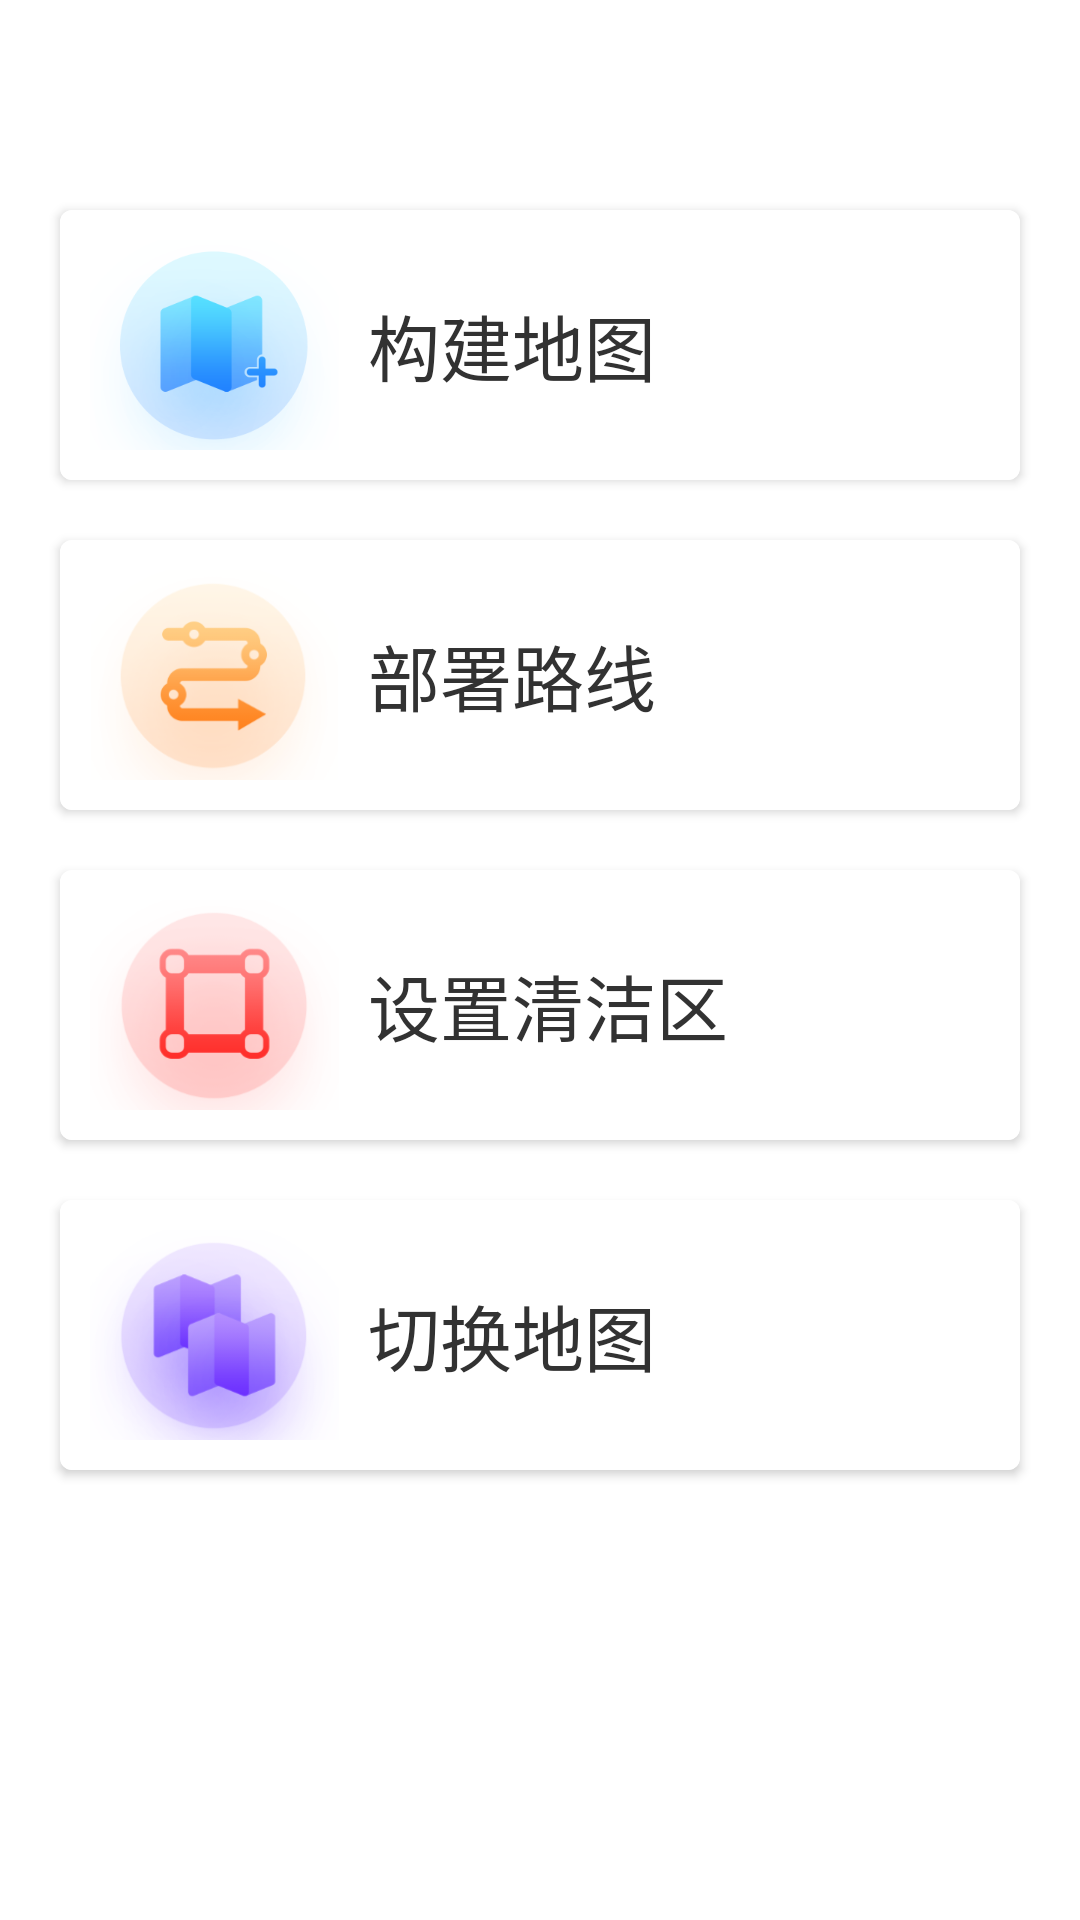

Icon click points for this 1080 x 1920 phone screenshot, format (x,y):
build map: (214,347)
deployment route: (213,680)
set up disinfection area: (214,1009)
toggle map: (213,1344)
